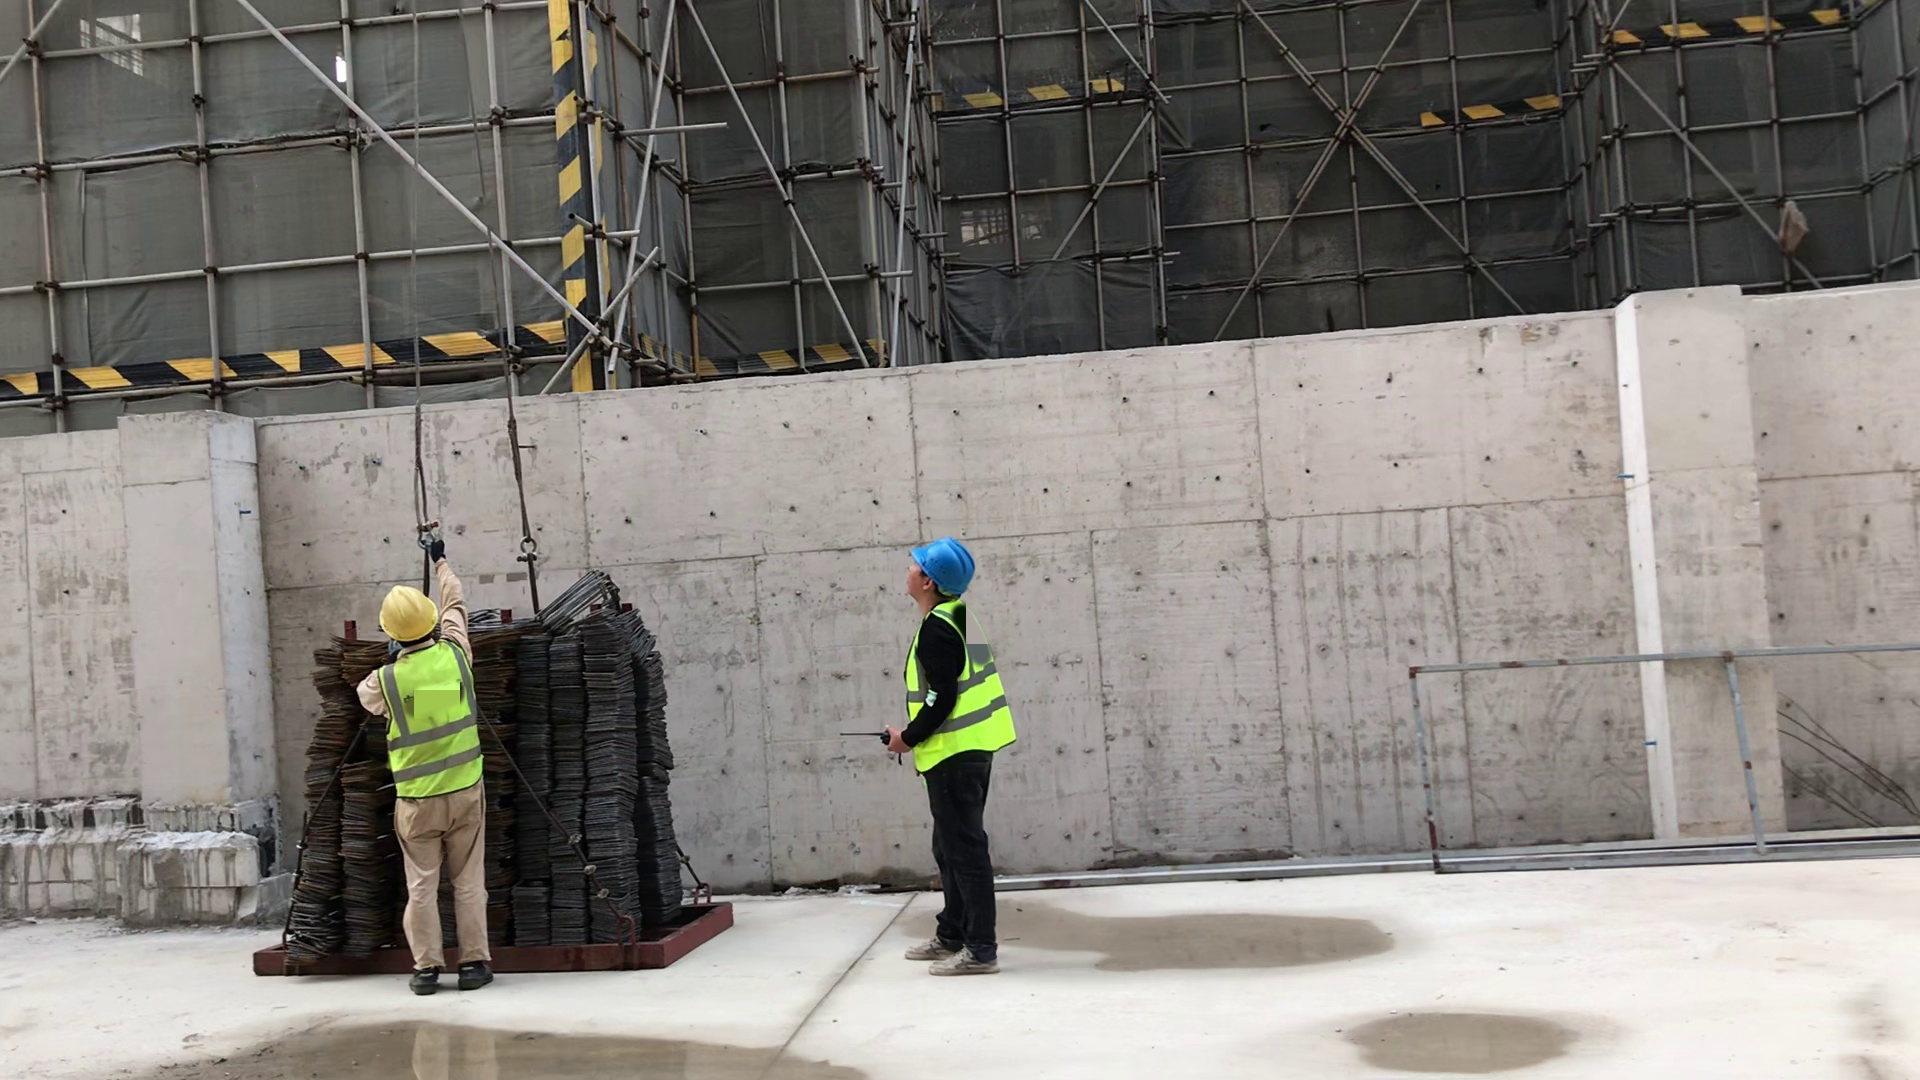helmet: (902, 534, 998, 607), (376, 581, 458, 634)
person: (358, 583, 503, 1005), (882, 532, 1020, 972)
vest: (369, 656, 498, 786), (905, 617, 1012, 754)
